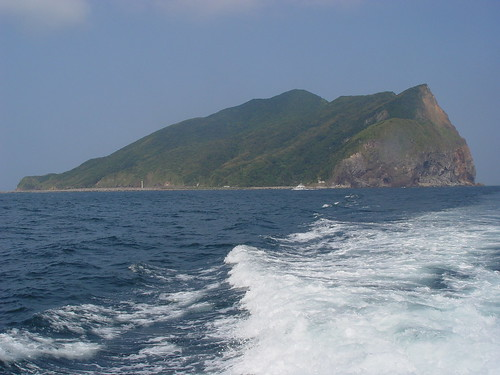turtleIslandTop: (20, 79, 479, 185)
